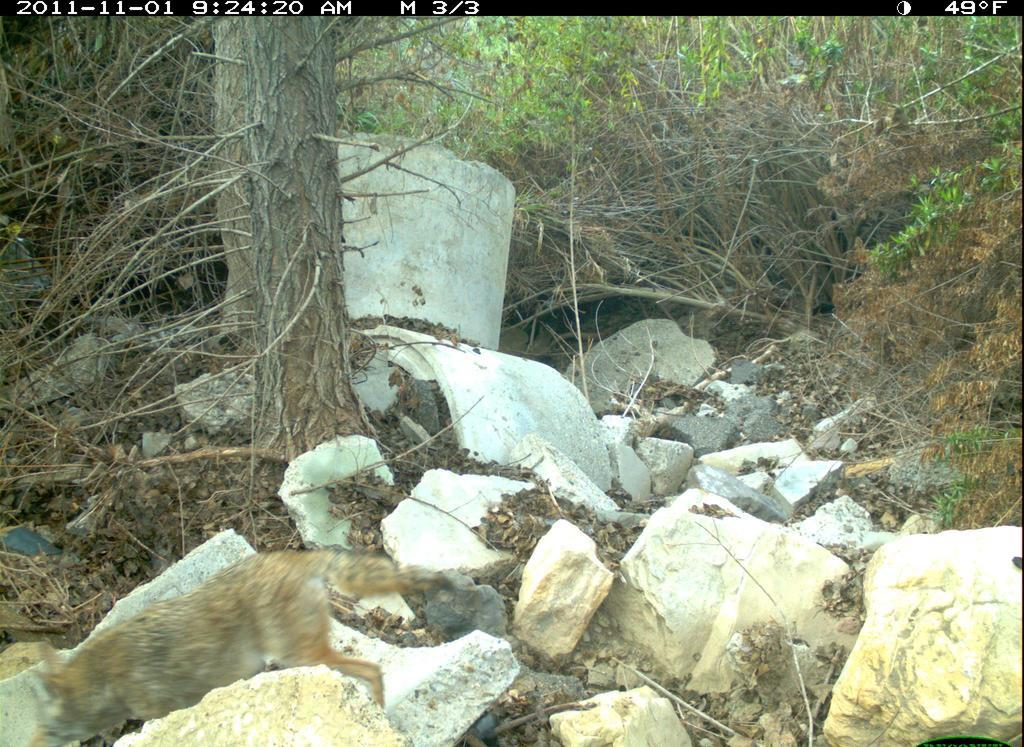coyote: (30, 541, 468, 739)
